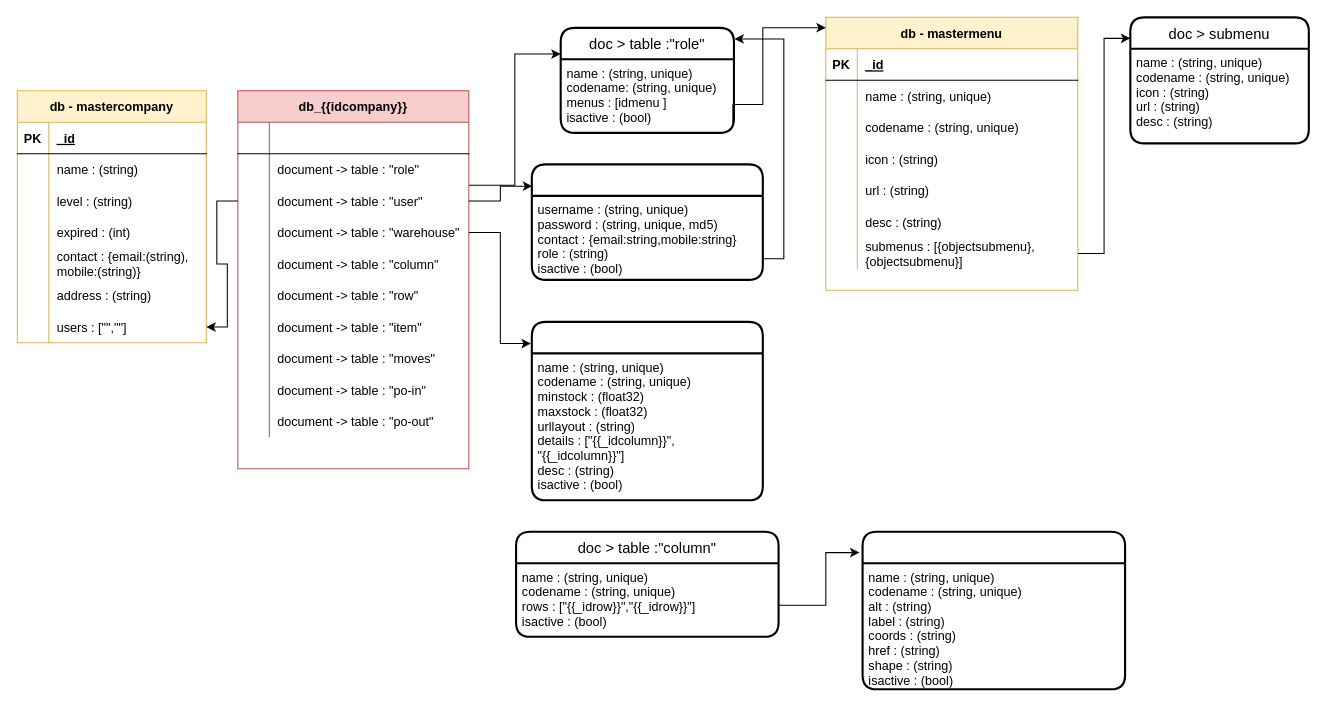
The diagram is 1326 pixels wide and 707 high, and some of its shapes have lost their labels. The shapes that lost their labels are listed below. From the top down, each one's box as (x1, y1, x2, y2) in pixels, then its label:
(530, 163, 763, 280): doc > table :"user"
(530, 320, 763, 501): doc > table :"warehouse"
(861, 530, 1126, 690): doc > table :"row"
